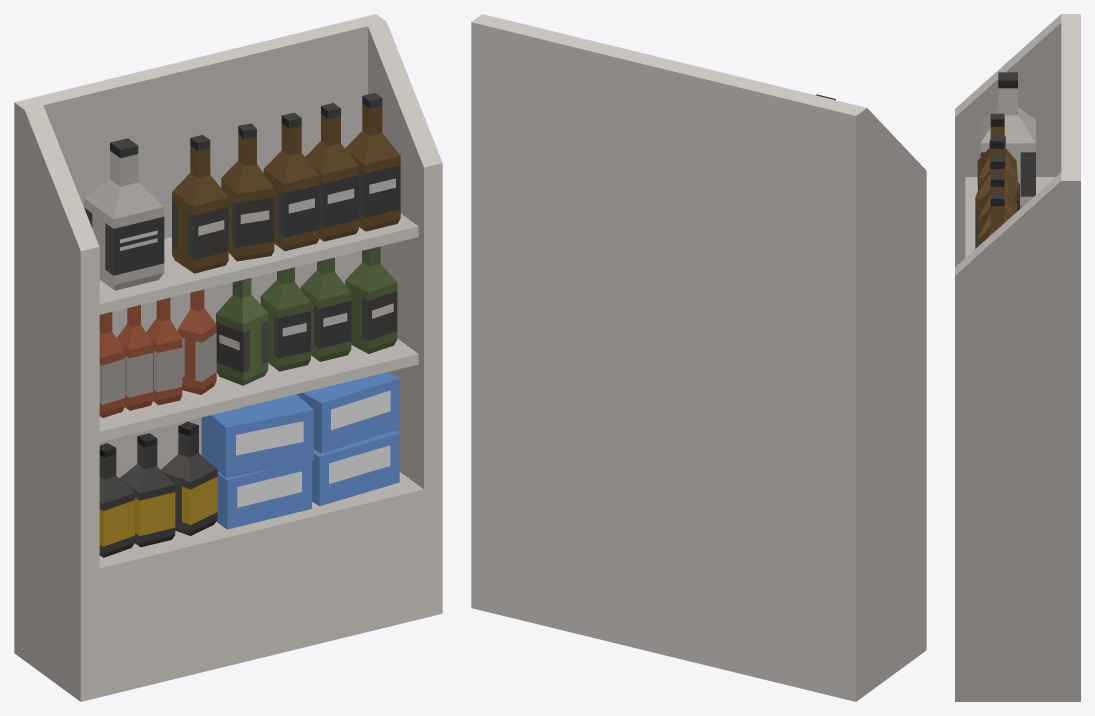
File: DrinkShelf.glb
3 renders of one model, left to right at view 1: azimuth 30°, elevation 25°; view 2: azimuth 150°, elevation 25°; view 3: azimuth 270°, elevation 25°, orthographic. The views are drawn at different scales.
Visible parts, largest first — view 1: SI_Prop_AlcohoShelf_01; view 2: SI_Prop_AlcohoShelf_01; view 3: SI_Prop_AlcohoShelf_01.
Boxes of the visible parts, x1,y1,x2,y2 form: SI_Prop_AlcohoShelf_01: [14, 14, 442, 701]; SI_Prop_AlcohoShelf_01: [471, 14, 926, 701]; SI_Prop_AlcohoShelf_01: [955, 14, 1080, 701].
Size of the model in its own units: 0.0226 by 0.0329 by 0.0072.
Materials: 1 (1 with a texture image).
